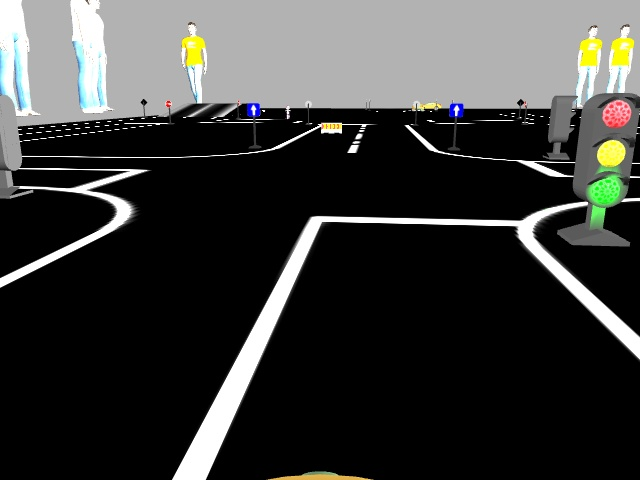ClosedRoadStand: (320, 122, 340, 133)
OneWay: (449, 102, 462, 116), (248, 102, 258, 115)
TrafficLight: (577, 88, 635, 209)
